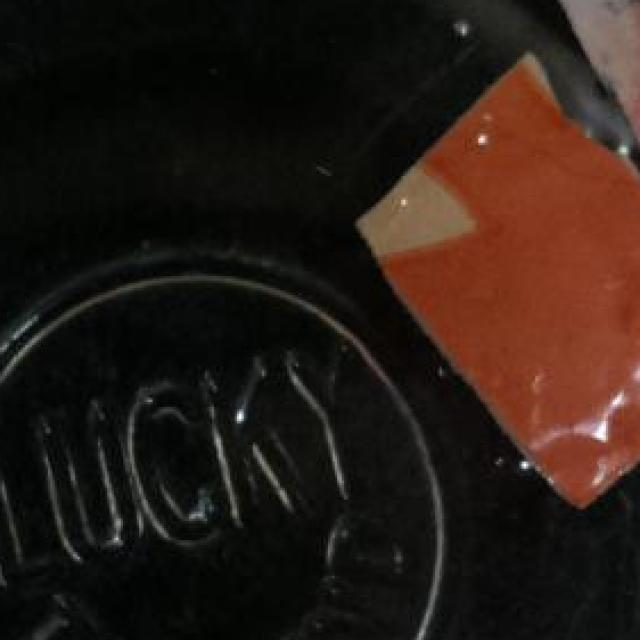Microplastic: (332, 50, 640, 514)
